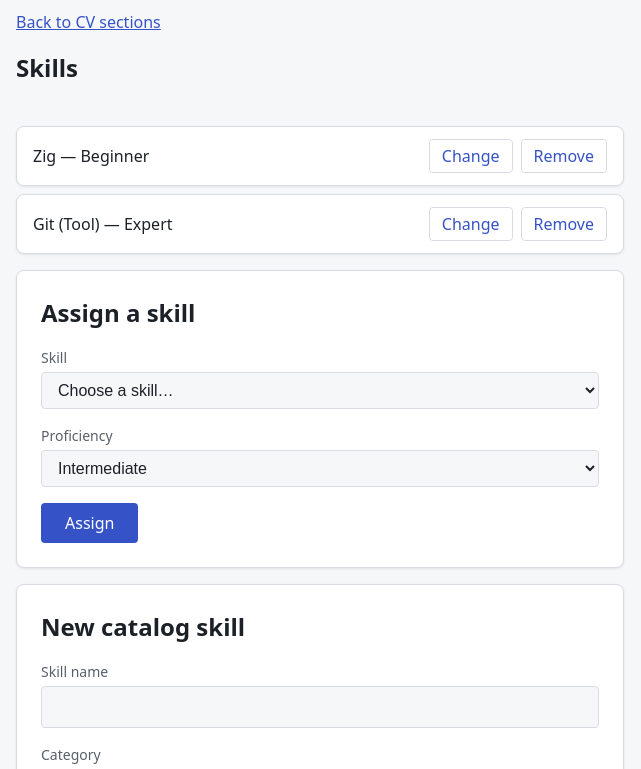
SkillsPage › asks for a skill before assigning
Expected: the button with aria-label "Remove Zig" is shown, [520,139,607,173]
Click the button "Assign": (90, 523) [41,503,138,543]
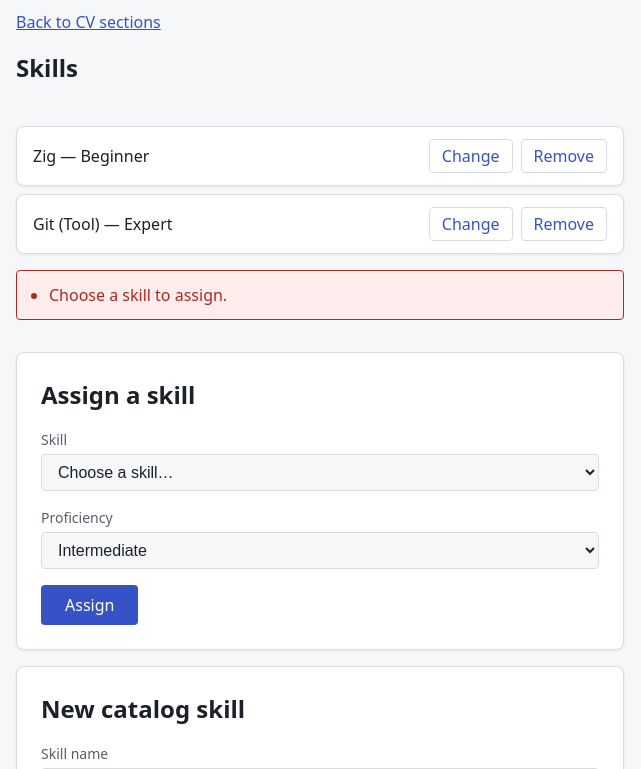
Now the message reads "Choose a skill to assign.", box [49,284,227,306]
